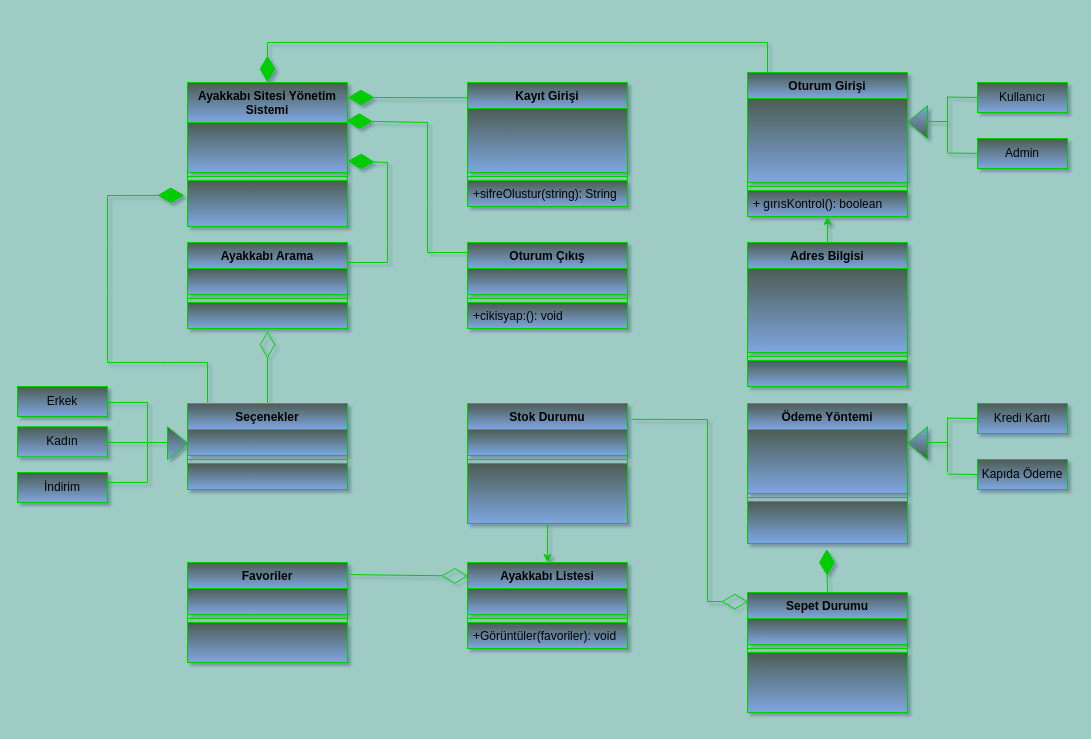
This 1091x739 diagram has some shape labels left out. Here are the shapes that lost their labels. From the top down, the centre of each, then its label:
(267,147): -ayakkabiadi: String +marka: String +fiyat: String
(547,140): -kadi: String -ksoyadi: String - e-mail: String - sifre: String
(827,140): - e-mail: String - sifre: String
(267,315): Listele(string): String
(827,310): - il: String - ilce: String - mahalle: String - cadde: String - taksim: String
(547,442): + sayi: int
(827,461): - kartno: int - sktarih: DateTime - cv: int
(547,493): +stokKontrol(): boolean +stokSayisi(sayi): void
(827,522): + kartDegistir(kartno, sktarih, cv): void
(267,642): +favoriEkle(): void +favoriSil(): void
(827,682): +sepetGüncelle(): void +sepetOnayla(): boolean
